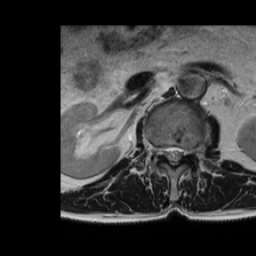CCS_normal: (170, 139, 177, 169)
LFS_stenosis: (185, 142, 192, 162)
LLS_normal: (177, 142, 184, 163)
RFS_normal: (155, 138, 163, 161)
RLS_normal: (163, 141, 170, 166)
